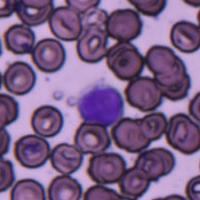L: (78, 83, 125, 126)
